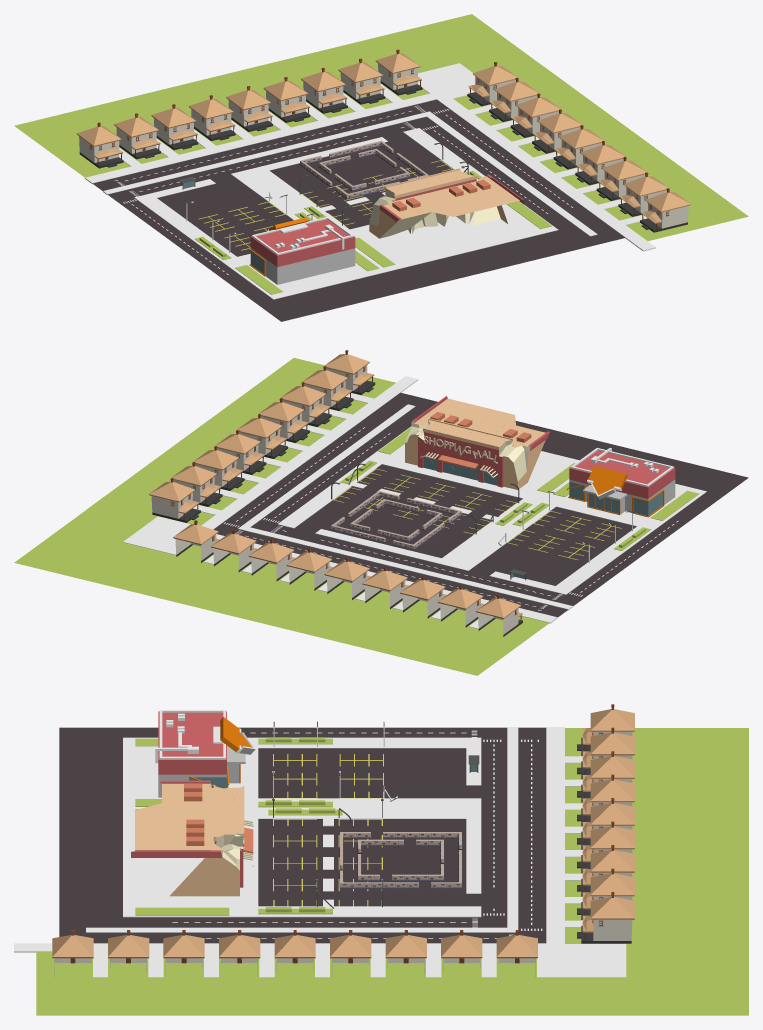
The model's file is MallScene 1.fbx.
The picture shows the model from 3 angles, top to bottom: view 1: azimuth 30°, elevation 25°; view 2: azimuth 150°, elevation 25°; view 3: azimuth 270°, elevation 25°; orthographic projection. The views are drawn at different scales.
Visible parts, largest first — view 1: Environment, Mall, bina.001, Walls, House1.017, House1.018, House1.003, House1.002, House1.008, House1.005, House1.001, House1.006 (+10 smaller); view 2: Environment, Mall, bina.001, Walls, House1.011, House1.016, House1.010, House1.012, House1.017, House1.009, House1.015, House1.013 (+10 smaller); view 3: Environment, Mall, bina.001, Walls, House1.001, House1.003, House1.004, House1.008, House1.006, House1.007, House1.002, House1.005 (+10 smaller).
Part boxes in pixels (box(x1,y1,x2,y2)): Environment: box(14, 14, 748, 321); Mall: box(369, 168, 523, 238); bina.001: box(249, 216, 355, 284); Walls: box(299, 140, 428, 199); House1.017: box(640, 188, 690, 232); House1.018: box(76, 122, 123, 168); House1.003: box(301, 67, 347, 113); House1.002: box(338, 58, 385, 104); House1.008: box(114, 113, 160, 159); House1.005: box(226, 86, 272, 131); House1.001: box(375, 49, 422, 95); House1.006: box(189, 95, 235, 140); Environment: box(14, 358, 748, 675); Mall: box(405, 396, 549, 489); bina.001: box(566, 448, 675, 517); Walls: box(330, 491, 462, 550); House1.011: box(149, 478, 200, 522); House1.016: box(302, 366, 353, 410); House1.010: box(192, 446, 244, 490); House1.012: box(214, 430, 266, 474); House1.017: box(323, 350, 375, 394); House1.009: box(171, 462, 222, 506); House1.015: box(280, 382, 331, 426); House1.013: box(236, 414, 287, 458); Environment: box(14, 721, 748, 1015); Mall: box(131, 780, 253, 896); bina.001: box(155, 710, 255, 797); Walls: box(339, 832, 462, 888); House1.001: box(577, 892, 634, 943); House1.003: box(577, 845, 634, 896); House1.004: box(577, 821, 634, 873); House1.008: box(577, 727, 634, 779); House1.006: box(577, 774, 634, 826); House1.007: box(577, 751, 634, 802); House1.002: box(577, 868, 634, 919); House1.005: box(577, 798, 634, 849).
Bounding box in the file's own units: 61.38 × 5.22 × 66.17.
Materials: 2 (2 with a texture image).
